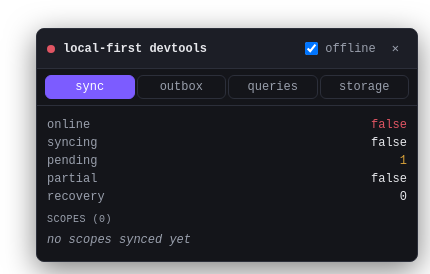
Scenario: LocalFirstDevtools › shows a pending op in the outbox tab
Click the button with test id "lf-devtools-tab-outbox" at (181, 87), box [136,75,226,99]
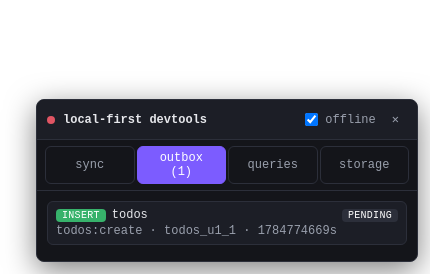
Now the element with test id "lf-devtools-op" shows "todos", box [112,208,148,222]
